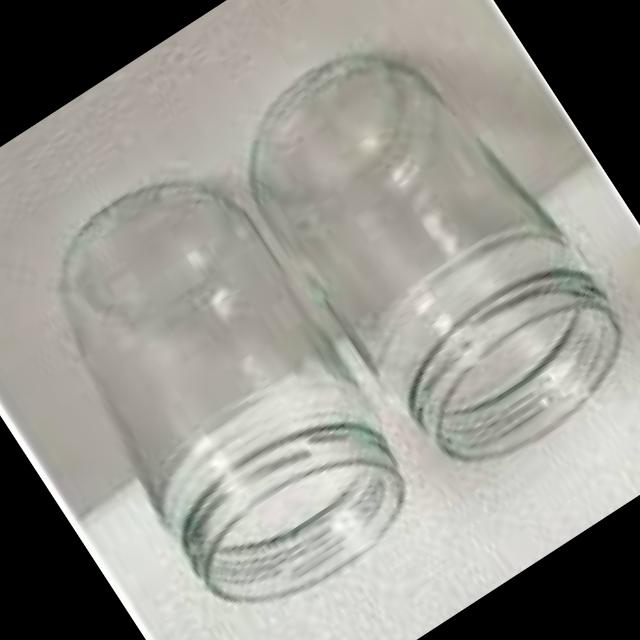ToplesKaca: (0, 142, 442, 640), (218, 0, 640, 495)
